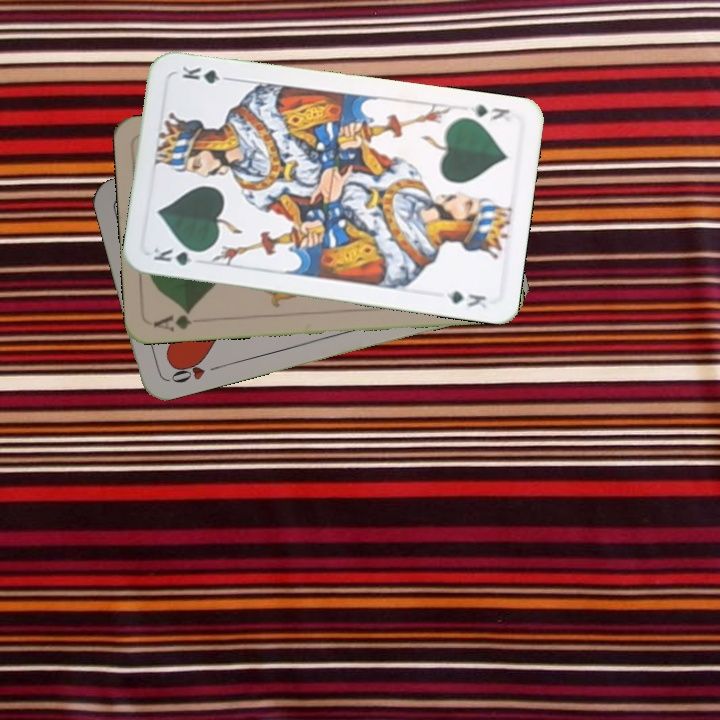GA: (149, 306, 195, 334)
GK: (149, 242, 207, 269), (465, 100, 513, 124)
HO: (165, 354, 223, 386)
